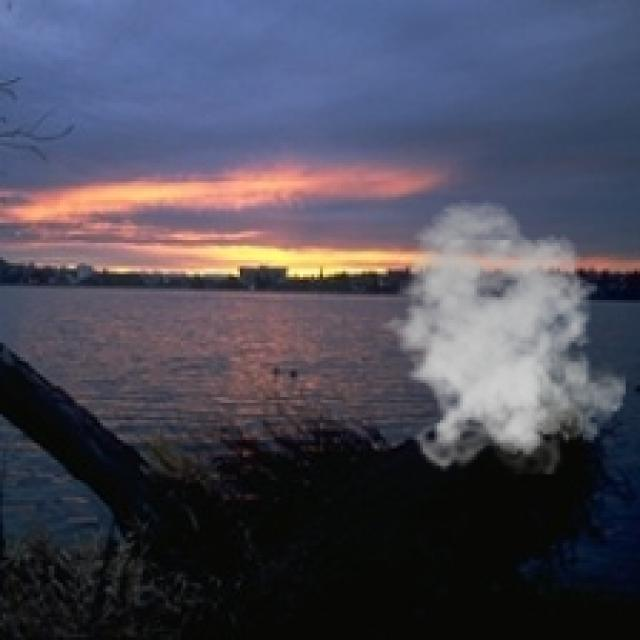Smoke: (371, 200, 626, 474)
